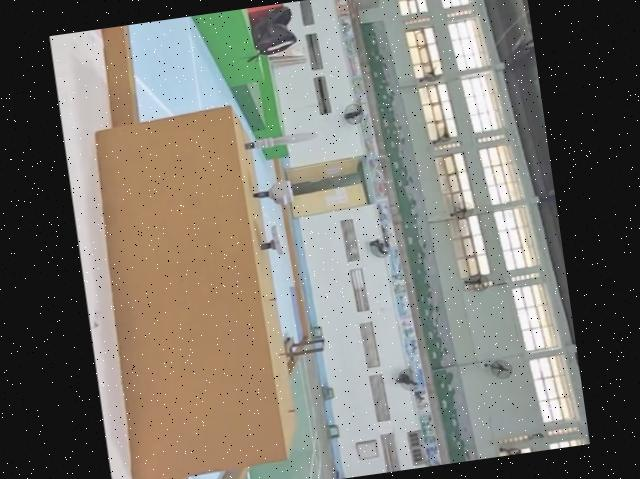Fist: (252, 180, 295, 208)
Hand: (255, 220, 291, 262)
Sph: (243, 122, 320, 154)
